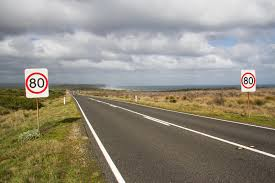Speed_limit_80km: (26, 72, 48, 94), (240, 73, 255, 89)
